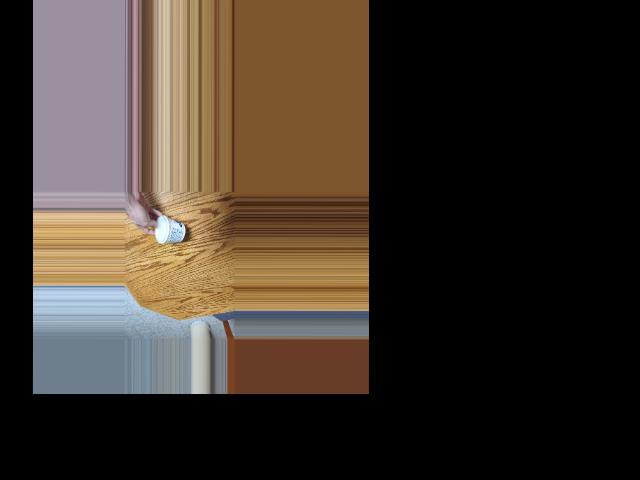cotage: (157, 219, 188, 249)
